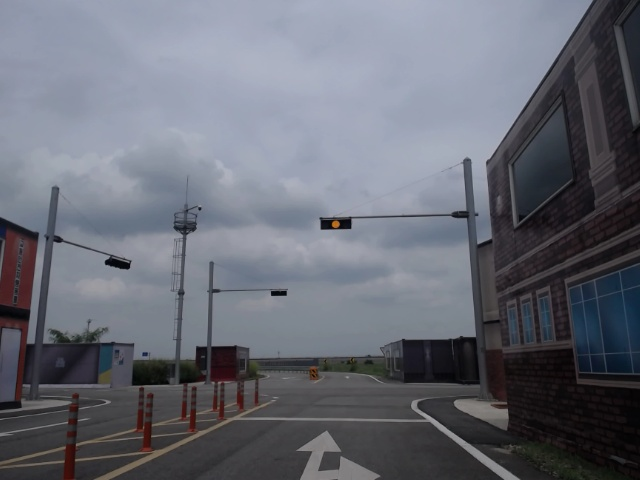orange_3: (321, 217, 352, 229)
